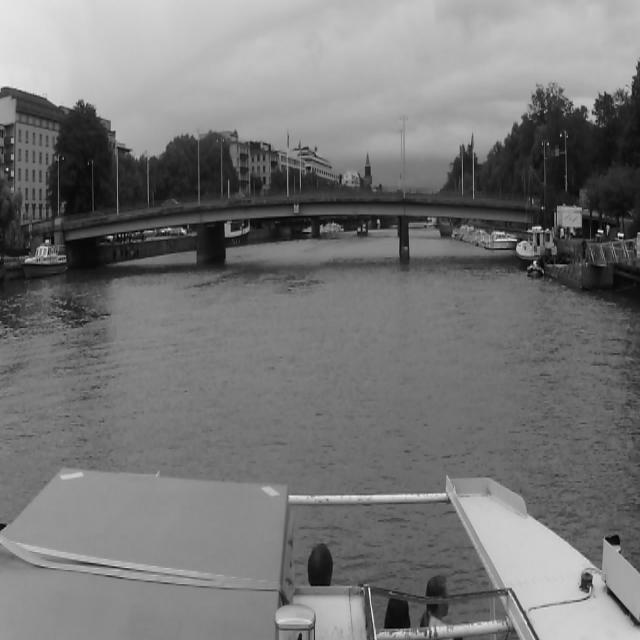ship: (517, 222, 555, 263), (22, 243, 67, 276)
